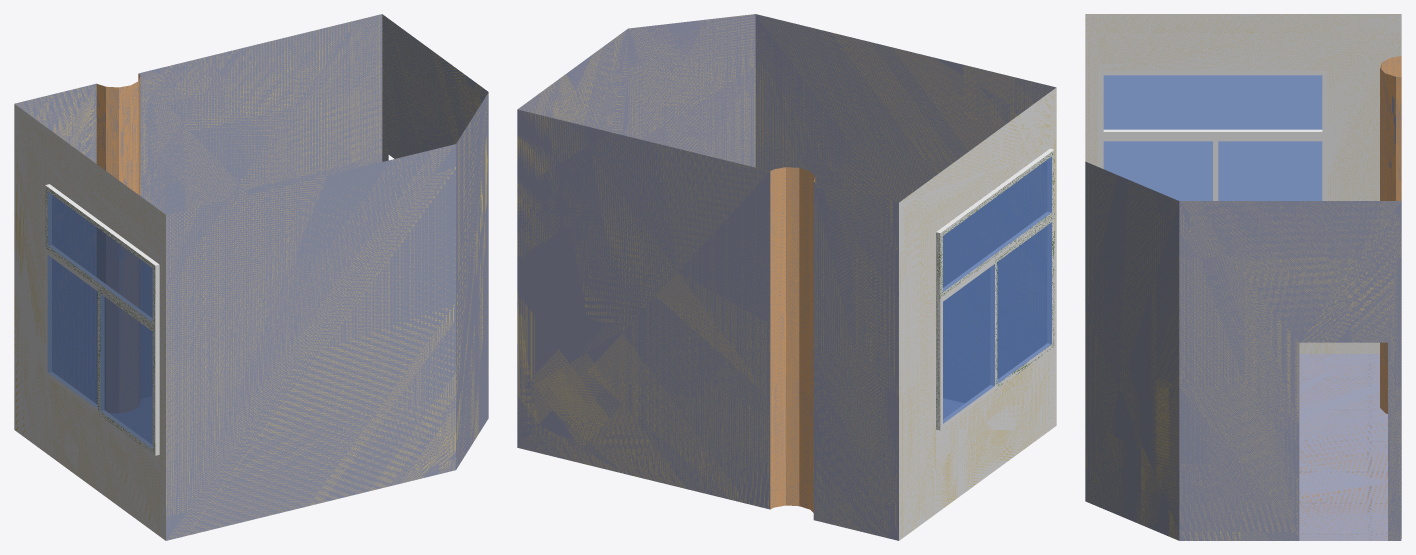
Rendered from DES038.obj.
The picture shows the model from 3 angles, left to right: view 1: azimuth 30°, elevation 25°; view 2: azimuth 150°, elevation 25°; view 3: azimuth 270°, elevation 25°; orthographic projection. The views are drawn at different scales.
Visible parts, largest first — view 1: Mesh7 FRD038 Model, Mesh1 ventana1_1 FRD038 Model; view 2: Mesh7 FRD038 Model, Mesh1 ventana1_1 FRD038 Model; view 3: Mesh7 FRD038 Model, Mesh1 ventana1_1 FRD038 Model.
Boxes of the visible parts, box(x1,y1,x2,y2) form: Mesh7 FRD038 Model: box(14, 14, 488, 540); Mesh1 ventana1_1 FRD038 Model: box(45, 184, 159, 455); Mesh7 FRD038 Model: box(517, 14, 1056, 540); Mesh1 ventana1_1 FRD038 Model: box(936, 148, 1054, 430); Mesh7 FRD038 Model: box(1085, 14, 1401, 540); Mesh1 ventana1_1 FRD038 Model: box(1098, 70, 1327, 200).
Bounding box in the file's own units: 4.3 × 3.6 × 3.04.
8 materials, 1 textured.
